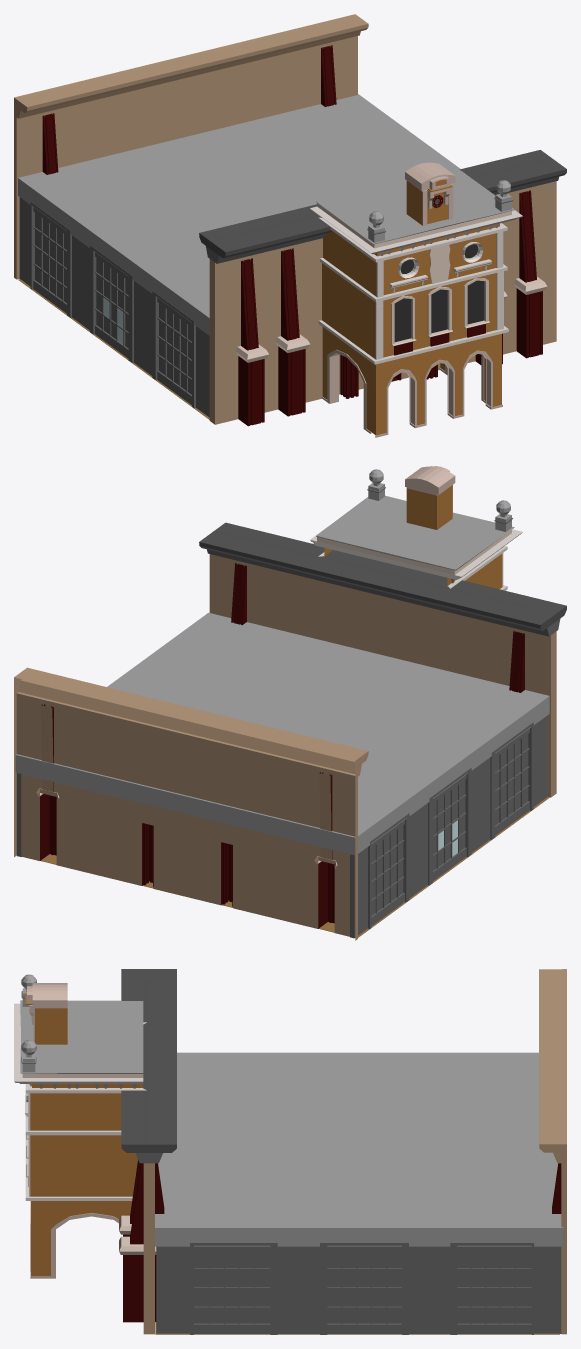
The model's file is ArquitecturaEscenario2Final.fbx.
The picture shows the model from 3 angles, top to bottom: view 1: azimuth 30°, elevation 25°; view 2: azimuth 150°, elevation 25°; view 3: azimuth 270°, elevation 25°; orthographic projection. The views are drawn at different scales.
Parts seen in each view (by area): view 1: Arquitectura; view 2: Arquitectura; view 3: Arquitectura.
Part boxes in pixels (<box>): Arquitectura: <box>14,14,566,437</box>; Arquitectura: <box>14,466,566,940</box>; Arquitectura: <box>14,969,566,1334</box>.
Bounding box in the file's own units: 2457 × 1688 × 3260.
